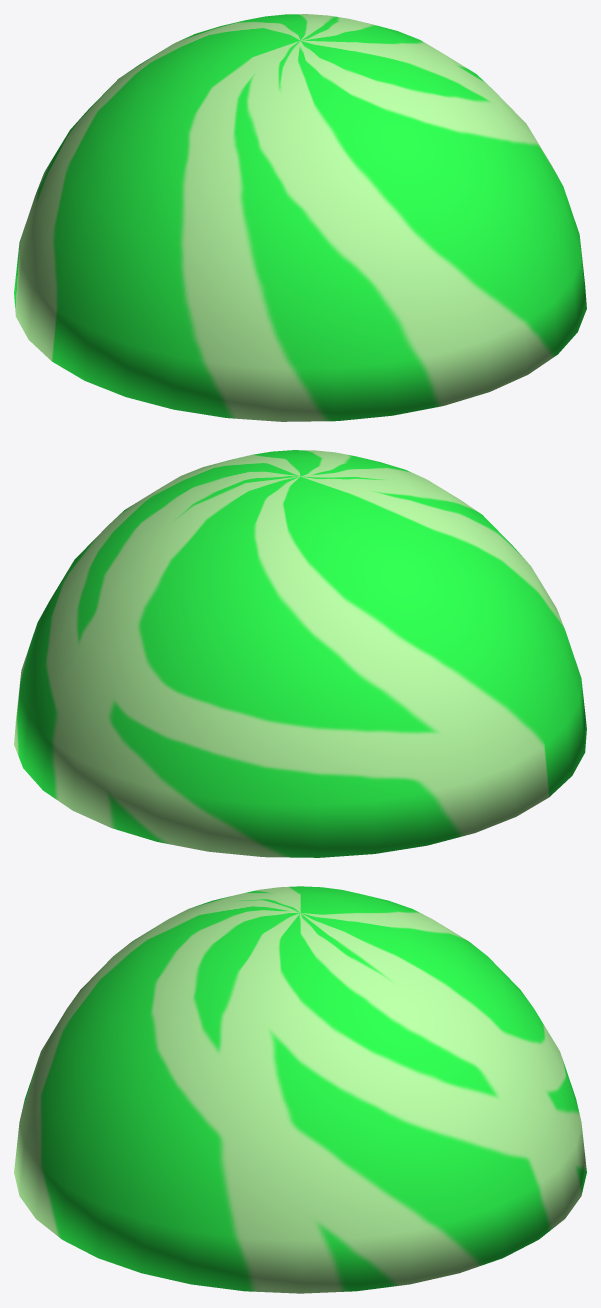
File: MelonHat.fbx
3 views of the same model, one above another, from view 1: azimuth 30°, elevation 25°; view 2: azimuth 150°, elevation 25°; view 3: azimuth 270°, elevation 25° (orthographic).
Visible parts, largest first — view 1: Sphere; view 2: Sphere; view 3: Sphere.
Boxes of the visible parts, left/top/right/bottom form: Sphere: left=14, top=14, right=586, bottom=421; Sphere: left=14, top=450, right=586, bottom=857; Sphere: left=14, top=886, right=586, bottom=1293.
Bounding box in the file's own units: 2 × 1.01 × 2.
